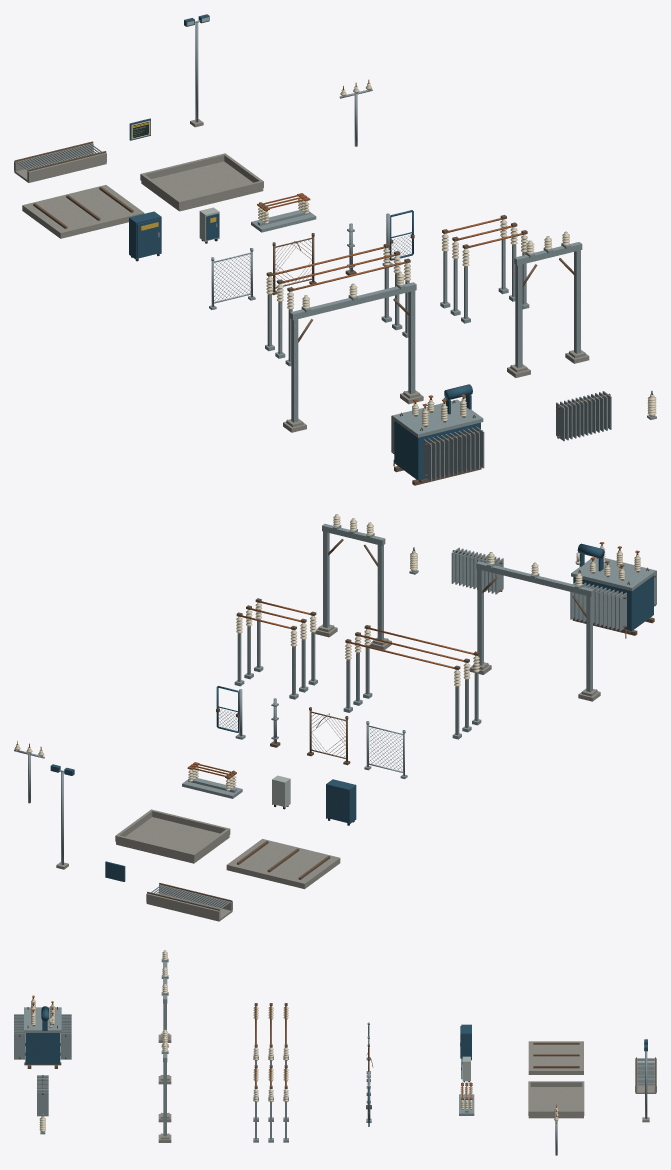
The model's file is PROJECT_Z_Substation_Transformer_Yard.glb.
3 views of the same model, one above another, from view 1: azimuth 30°, elevation 25°; view 2: azimuth 150°, elevation 25°; view 3: azimuth 270°, elevation 25° (orthographic). The views are drawn at different scales.
Visible parts, largest first — view 1: CIVIL_TransformerConcreteMountPad__Foundation_CastConcretePa, STRUCTURE_SteelGantry_Span6m__Gantry_ColumnsAndTopCrossbeam, POWER_33kV_OilTransformer__Radiators_TwinBanks_26CoolingFins, CIVIL_OilContainmentSump__Foundation_CastConcretePadOrSump, SPARE_RadiatorBank_2p7m__Radiator_FinStack_13SteelPlates, STRUCTURE_SteelGantry_Span3m__Gantry_ColumnsAndTopCrossbeam, CIVIL_OilContainmentSump__Foundation_AnchorRailsOrOilCurb, CIVIL_CableTrenchAndRemovableGrate__Trench_SubgradeConcreteC, CONDUCTOR_ThreePhaseBusbar_3m__Busbar_GalvanizedSupportPoles, POWER_33kV_OilTransformer__Transformer_SteelLidAndBoltedFlan, POWER_33kV_OilTransformer__Transformer_SealedOilTank_3p2x2p1, CONDUCTOR_ThreePhaseBusbar_6m__Busbar_GalvanizedSupportPoles (+7 smaller); view 2: CIVIL_TransformerConcreteMountPad__Foundation_CastConcretePa, STRUCTURE_SteelGantry_Span6m__Gantry_ColumnsAndTopCrossbeam, CIVIL_OilContainmentSump__Foundation_CastConcretePadOrSump, POWER_33kV_OilTransformer__Radiators_TwinBanks_26CoolingFins, CIVIL_OilContainmentSump__Foundation_AnchorRailsOrOilCurb, STRUCTURE_SteelGantry_Span3m__Gantry_ColumnsAndTopCrossbeam, CONDUCTOR_ThreePhaseBusbar_6m__Busbar_GalvanizedSupportPoles, CONDUCTOR_ThreePhaseBusbar_3m__Busbar_GalvanizedSupportPoles, CIVIL_CableTrenchAndRemovableGrate__Trench_SubgradeConcreteC, SPARE_RadiatorBank_2p7m__Radiator_FinStack_13SteelPlates, POWER_33kV_OilTransformer__Transformer_SteelLidAndBoltedFlan, POWER_33kV_OilTransformer__Transformer_SealedOilTank_3p2x2p1 (+7 smaller); view 3: CIVIL_TransformerConcreteMountPad__Foundation_CastConcretePa, CIVIL_OilContainmentSump__Foundation_CastConcretePadOrSump, POWER_33kV_OilTransformer__Transformer_SealedOilTank_3p2x2p1, POWER_33kV_OilTransformer__Radiators_TwinBanks_26CoolingFins, CIVIL_OilContainmentSump__Foundation_AnchorRailsOrOilCurb, POWER_33kV_OilTransformer__Transformer_SteelLidAndBoltedFlan, SPARE_RadiatorBank_2p7m__Radiator_FinStack_13SteelPlates, CIVIL_CableTrenchAndRemovableGrate__Trench_SeparateSteelGrat, CIVIL_TransformerConcreteMountPad__Foundation_AnchorRailsOrO, CONDUCTOR_ThreePhaseBusbar_3m__Busbar_PostCeramicInsulators, CONDUCTOR_ThreePhaseBusbar_6m__Busbar_PostCeramicInsulators, CIVIL_CableTrenchAndRemovableGrate__Trench_SubgradeConcreteC (+3 smaller).
Part boxes in pixels (bbox=[...]): CIVIL_TransformerConcreteMountPad__Foundation_CastConcretePa: bbox=[22, 185, 144, 238]; STRUCTURE_SteelGantry_Span6m__Gantry_ColumnsAndTopCrossbeam: bbox=[290, 282, 416, 422]; POWER_33kV_OilTransformer__Radiators_TwinBanks_26CoolingFins: bbox=[391, 415, 484, 481]; CIVIL_OilContainmentSump__Foundation_CastConcretePadOrSump: bbox=[141, 161, 263, 211]; SPARE_RadiatorBank_2p7m__Radiator_FinStack_13SteelPlates: bbox=[556, 391, 611, 441]; STRUCTURE_SteelGantry_Span3m__Gantry_ColumnsAndTopCrossbeam: bbox=[514, 242, 582, 367]; CIVIL_OilContainmentSump__Foundation_AnchorRailsOrOilCurb: bbox=[140, 153, 263, 208]; CIVIL_CableTrenchAndRemovableGrate__Trench_SubgradeConcreteC: bbox=[14, 143, 106, 182]; CONDUCTOR_ThreePhaseBusbar_3m__Busbar_GalvanizedSupportPoles: bbox=[440, 239, 529, 323]; POWER_33kV_OilTransformer__Transformer_SteelLidAndBoltedFlan: bbox=[392, 399, 483, 437]; POWER_33kV_OilTransformer__Transformer_SealedOilTank_3p2x2p1: bbox=[394, 421, 480, 480]; CONDUCTOR_ThreePhaseBusbar_6m__Busbar_GalvanizedSupportPoles: bbox=[265, 266, 409, 366]; CIVIL_TransformerConcreteMountPad__Foundation_CastConcretePa: bbox=[226, 839, 340, 889]; STRUCTURE_SteelGantry_Span6m__Gantry_ColumnsAndTopCrossbeam: bbox=[476, 561, 593, 692]; CIVIL_OilContainmentSump__Foundation_CastConcretePadOrSump: bbox=[116, 817, 229, 863]; POWER_33kV_OilTransformer__Radiators_TwinBanks_26CoolingFins: bbox=[570, 570, 656, 631]; CIVIL_OilContainmentSump__Foundation_AnchorRailsOrOilCurb: bbox=[115, 809, 230, 860]; STRUCTURE_SteelGantry_Span3m__Gantry_ColumnsAndTopCrossbeam: bbox=[322, 523, 385, 640]; CONDUCTOR_ThreePhaseBusbar_6m__Busbar_GalvanizedSupportPoles: bbox=[343, 647, 481, 739]; CONDUCTOR_ThreePhaseBusbar_3m__Busbar_GalvanizedSupportPoles: bbox=[234, 621, 317, 699]; CIVIL_CableTrenchAndRemovableGrate__Trench_SubgradeConcreteC: bbox=[146, 884, 232, 921]; SPARE_RadiatorBank_2p7m__Radiator_FinStack_13SteelPlates: bbox=[451, 547, 503, 594]; POWER_33kV_OilTransformer__Transformer_SteelLidAndBoltedFlan: bbox=[571, 557, 656, 590]; POWER_33kV_OilTransformer__Transformer_SealedOilTank_3p2x2p1: bbox=[573, 575, 653, 630]; CIVIL_TransformerConcreteMountPad__Foundation_CastConcretePa: bbox=[528, 1041, 583, 1074]; CIVIL_OilContainmentSump__Foundation_CastConcretePadOrSump: bbox=[528, 1087, 583, 1118]; POWER_33kV_OilTransformer__Transformer_SealedOilTank_3p2x2p1: bbox=[25, 1033, 60, 1064]; POWER_33kV_OilTransformer__Radiators_TwinBanks_26CoolingFins: bbox=[14, 1014, 71, 1059]; CIVIL_OilContainmentSump__Foundation_AnchorRailsOrOilCurb: bbox=[528, 1081, 584, 1115]; POWER_33kV_OilTransformer__Transformer_SteelLidAndBoltedFlan: bbox=[24, 1007, 61, 1032]; SPARE_RadiatorBank_2p7m__Radiator_FinStack_13SteelPlates: bbox=[37, 1075, 48, 1116]; CIVIL_CableTrenchAndRemovableGrate__Trench_SeparateSteelGrat: bbox=[637, 1058, 654, 1085]; CIVIL_TransformerConcreteMountPad__Foundation_AnchorRailsOrO: bbox=[533, 1042, 579, 1068]; CONDUCTOR_ThreePhaseBusbar_3m__Busbar_PostCeramicInsulators: bbox=[253, 1068, 288, 1102]; CONDUCTOR_ThreePhaseBusbar_6m__Busbar_PostCeramicInsulators: bbox=[253, 1006, 288, 1060]; CIVIL_CableTrenchAndRemovableGrate__Trench_SubgradeConcreteC: bbox=[635, 1058, 656, 1093].
Size of the model in its own units: 18.21 by 6.69 by 39.44.
Materials: 10 (10 with a texture image).
